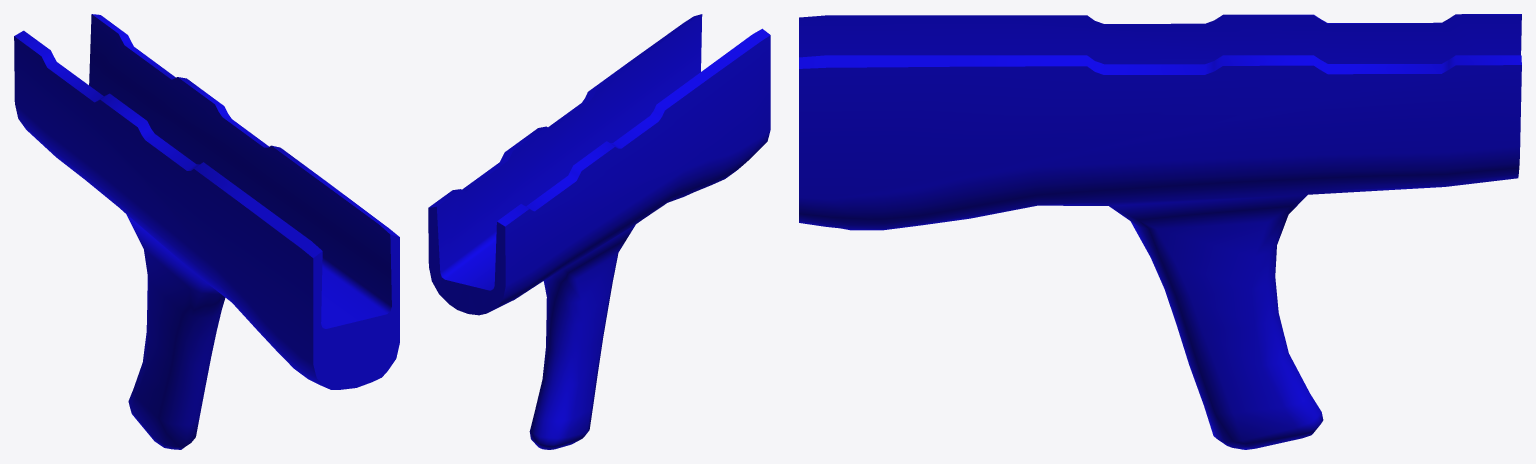
Rendered from AKM_romanian_dong.glb.
The picture shows the model from 3 angles, left to right: view 1: azimuth 30°, elevation 25°; view 2: azimuth 150°, elevation 25°; view 3: azimuth 270°, elevation 25°; orthographic projection. The views are drawn at different scales.
Visible parts, largest first — view 1: Romanian Forend; view 2: Romanian Forend; view 3: Romanian Forend.
Part boxes in pixels (x1,y1,x2,y2): Romanian Forend: (14,14,399,449); Romanian Forend: (428,14,770,449); Romanian Forend: (799,14,1521,449).
Bounding box in the file's own units: 0.0274 × 0.1031 × 0.1636.
